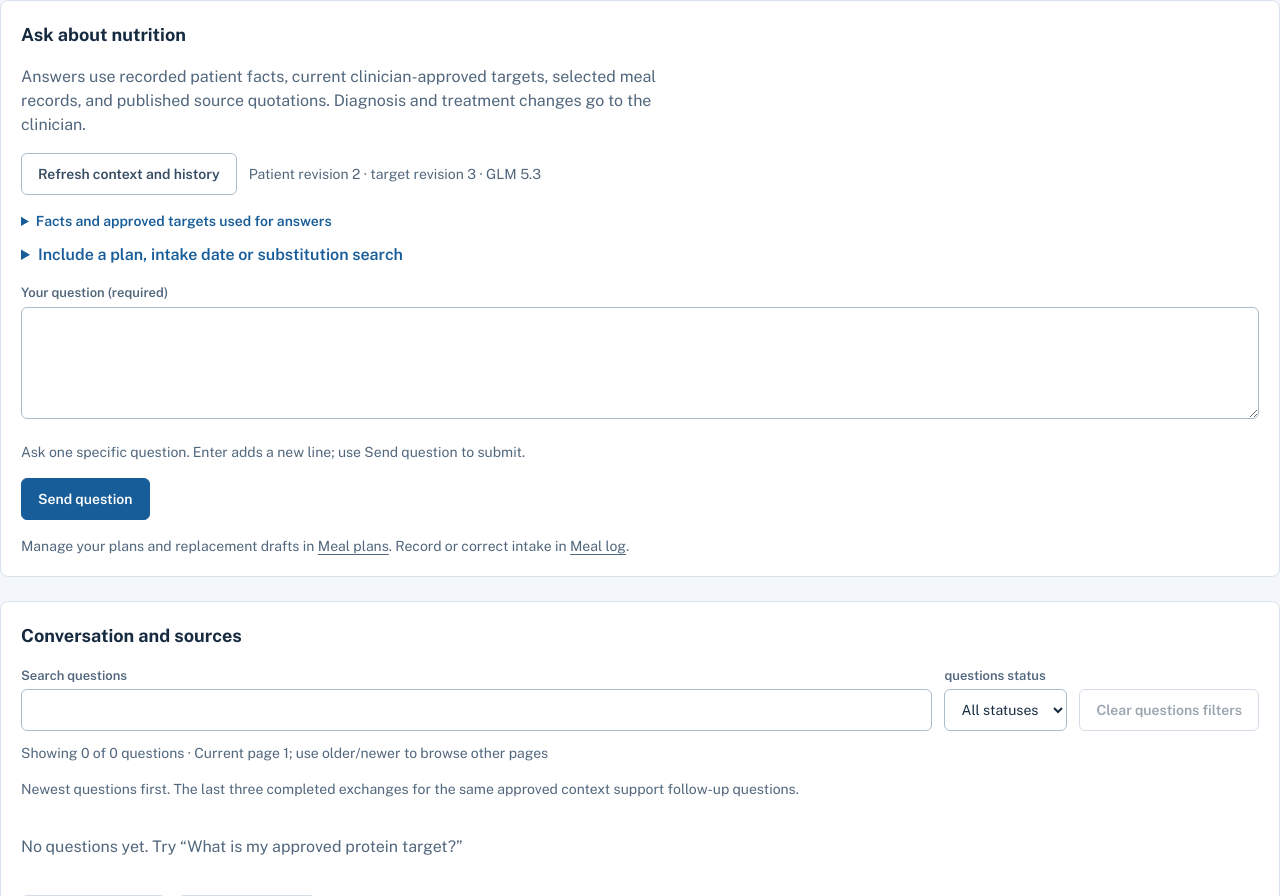
a lost chat response can be checked without repeating the provider request
Expected: the text "Patient revision 2 · target revision 3 · GLM 5.3" is shown, [249,164,541,184]
In the text box labelled "Your question (required)": (640, 362) [21,306,1259,418], type "What is my protein target?"
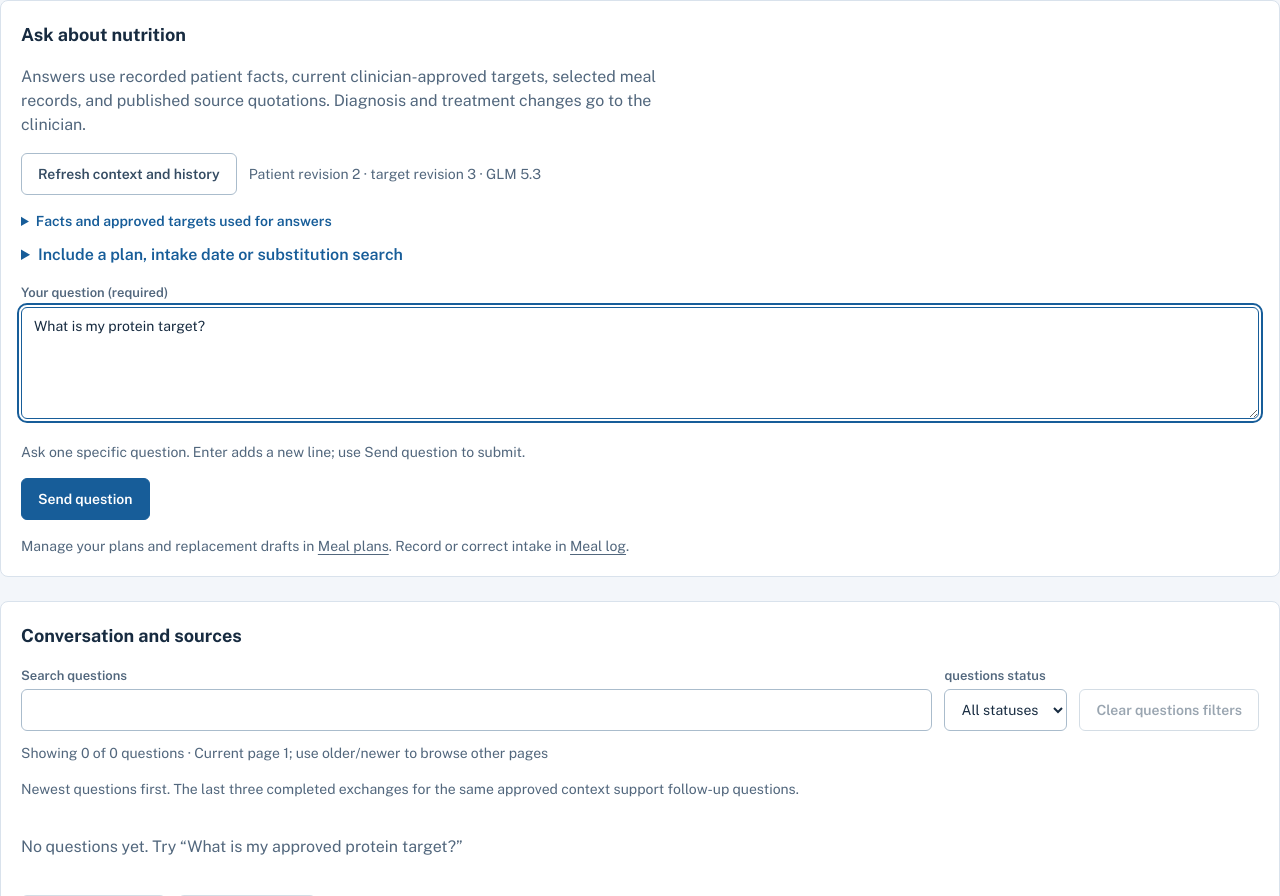
Click the button "Send question": (85, 498) [21,478,150,520]
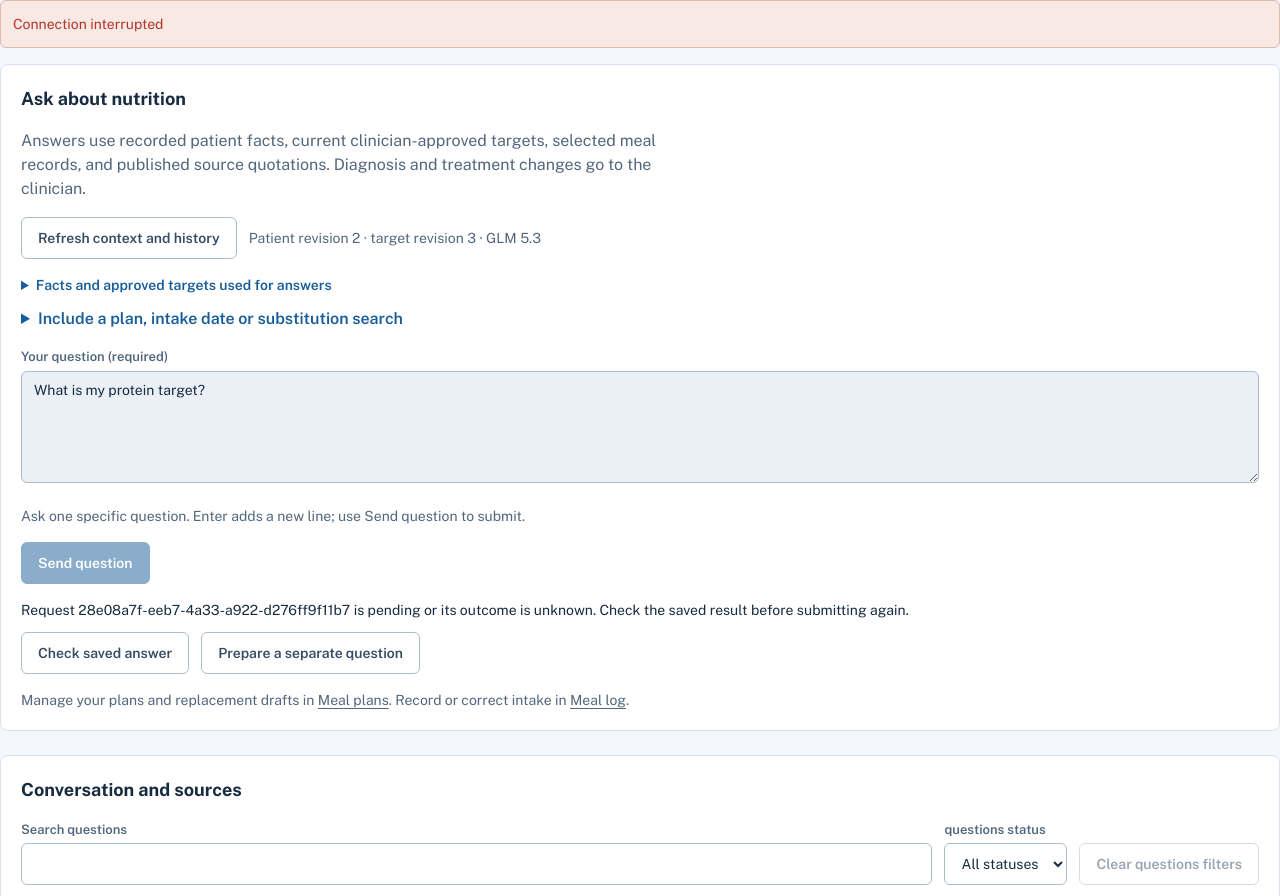
Expected: the text "Connection interrupted" is shown, [0,0,1279,48]
Click the button "Check saved answer": (105, 653) [21,632,189,674]
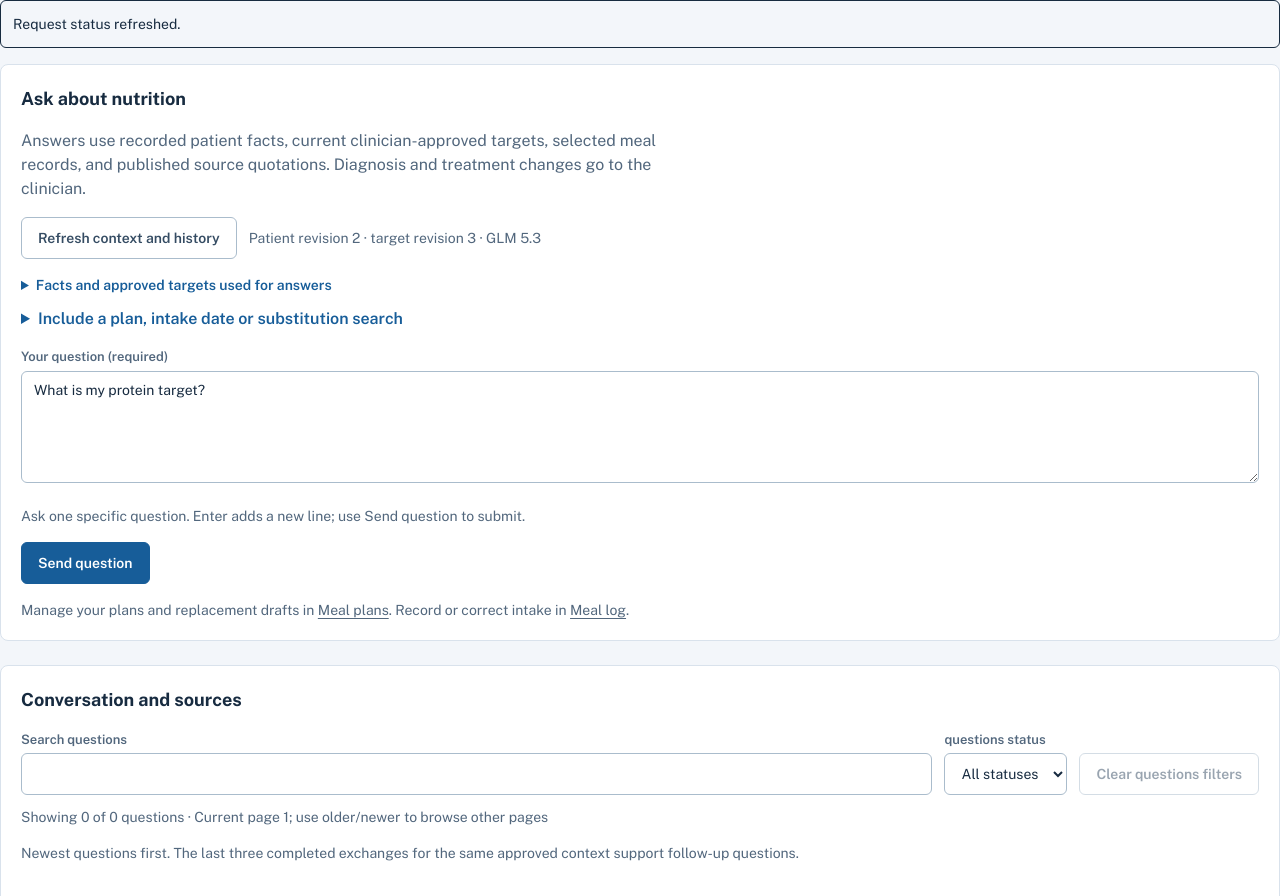
Expected: the button "Check saved answer" is gone
